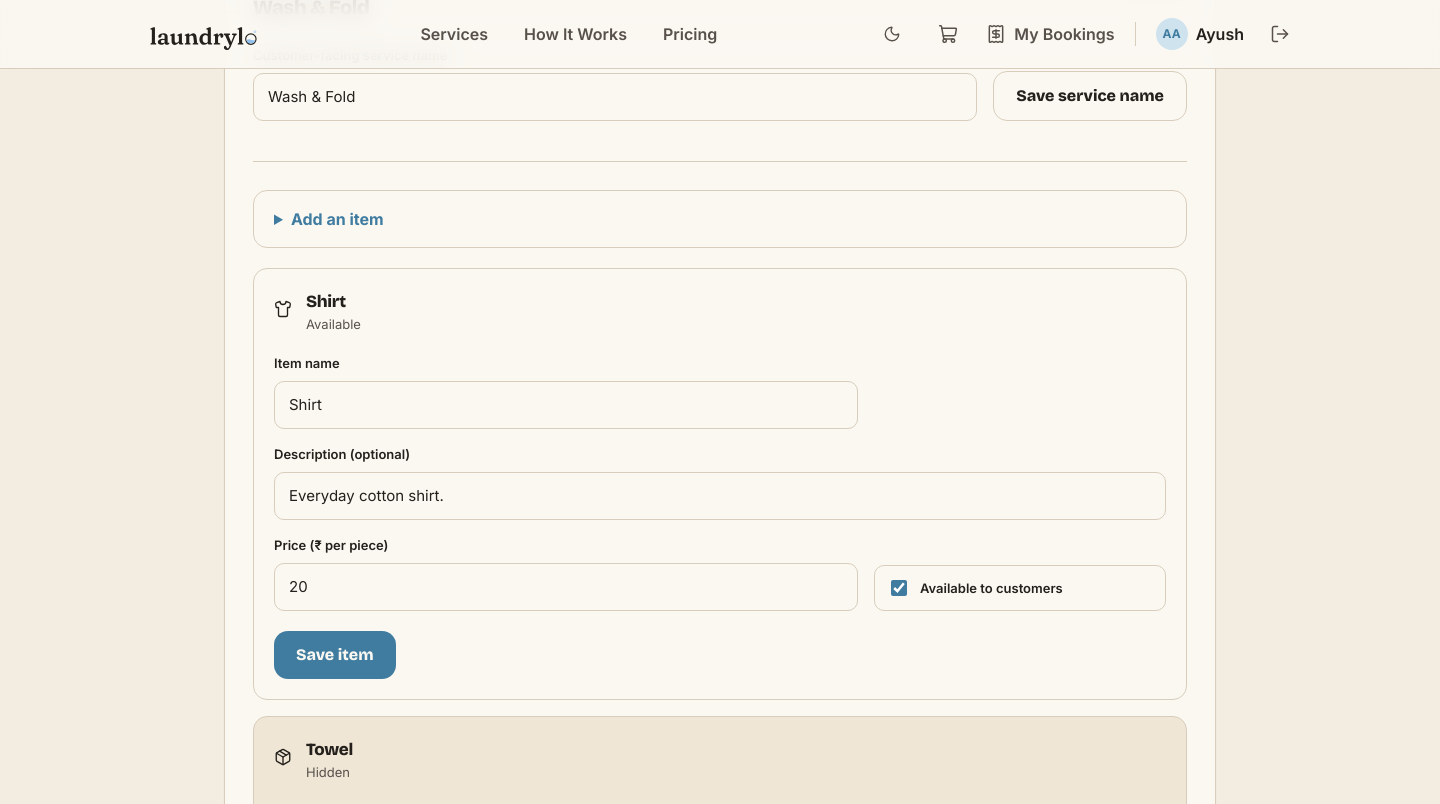
Test: laundry-partner catalogue management › updates item content, rupee pricing and customer availability together
The width and height of the screenshot is (1440, 804).
(page scrolled)
Clear the field labelled "Item name" at [566, 405], box [274,381,858,429]
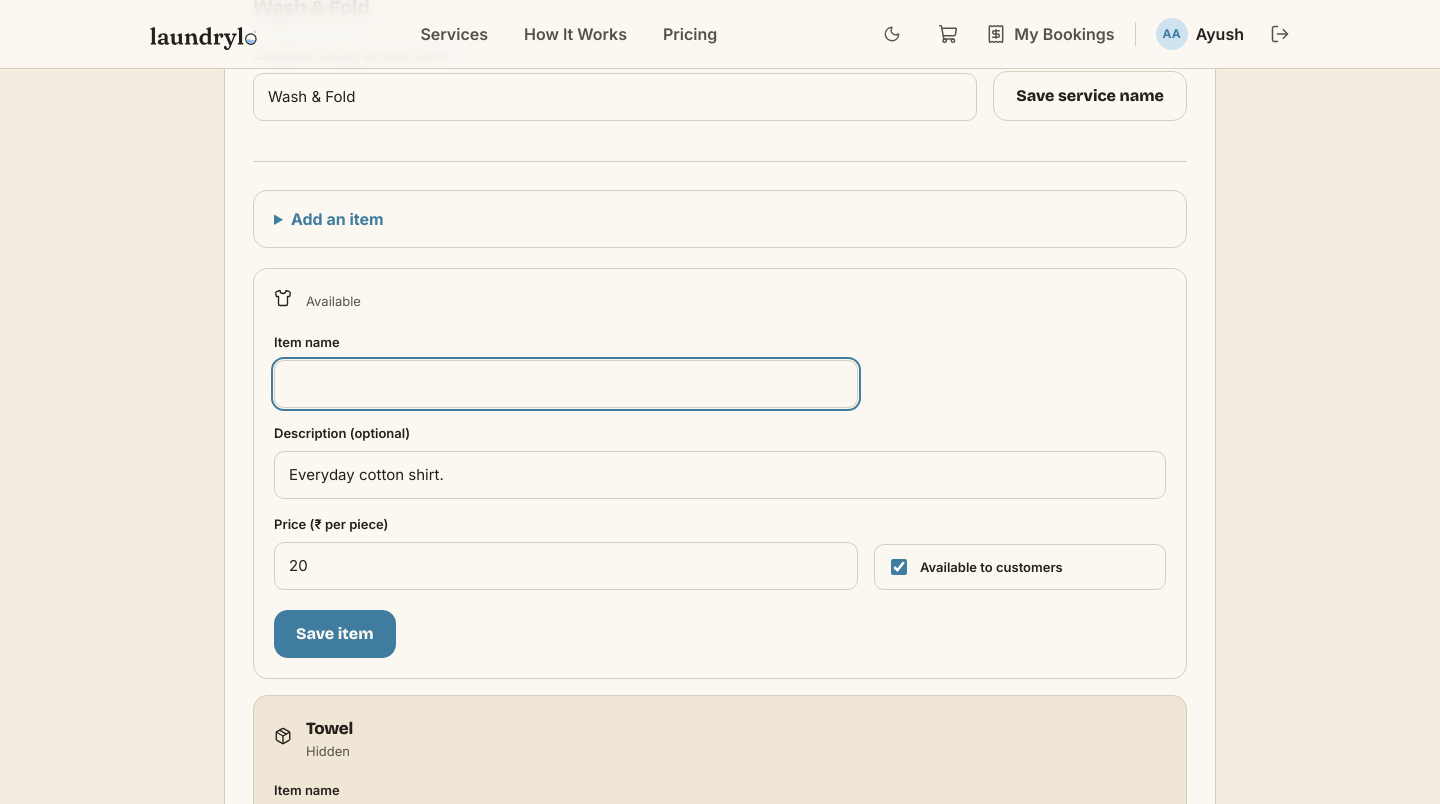
Type "Premium shirt" into the 1st field labelled "Item name".
click(566, 384); type("Premium shirt")  # box [274,360,858,408]
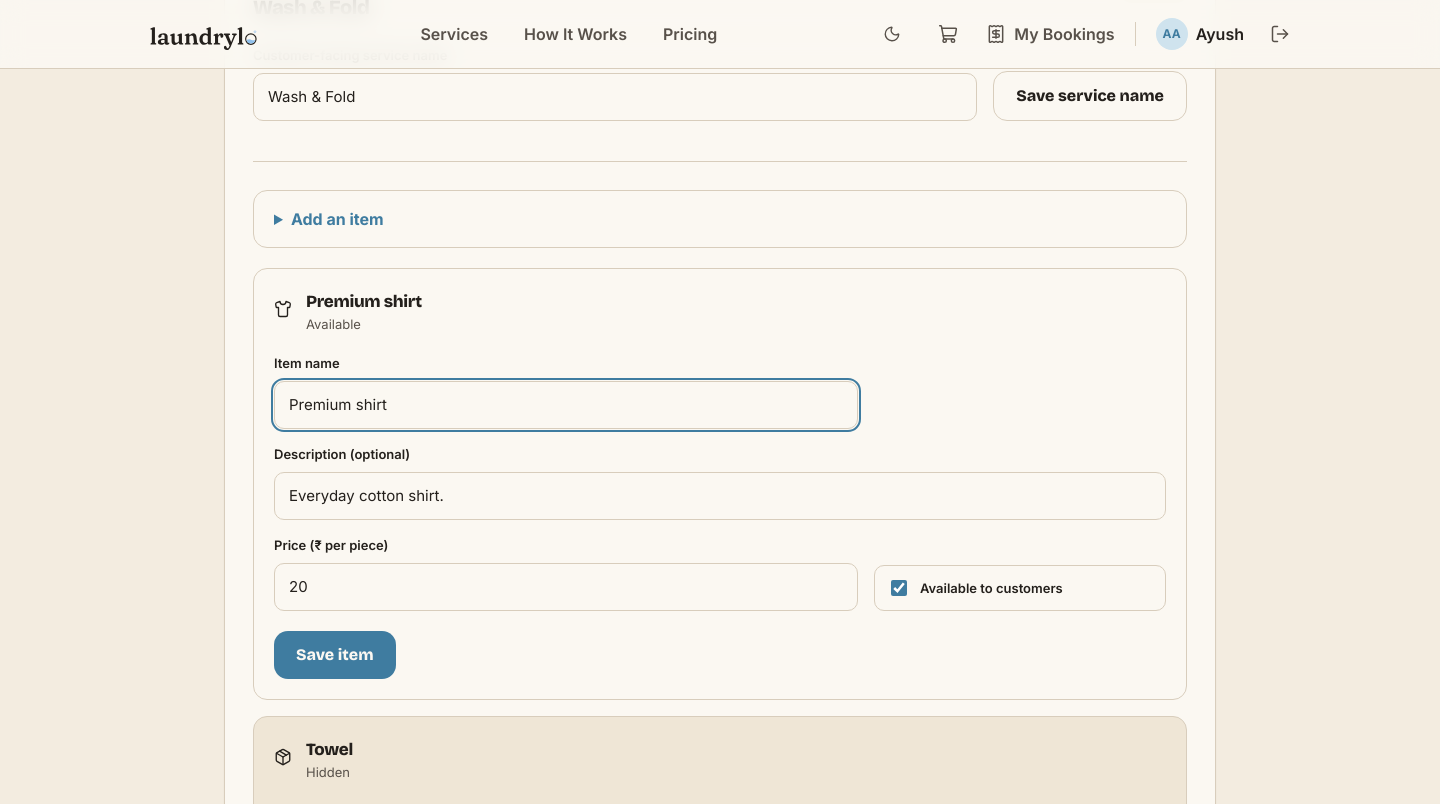
Replace the text in the field labelled "Description (optional)" with "Pressed and folded." at [720, 496], box [274,472,1166,520]
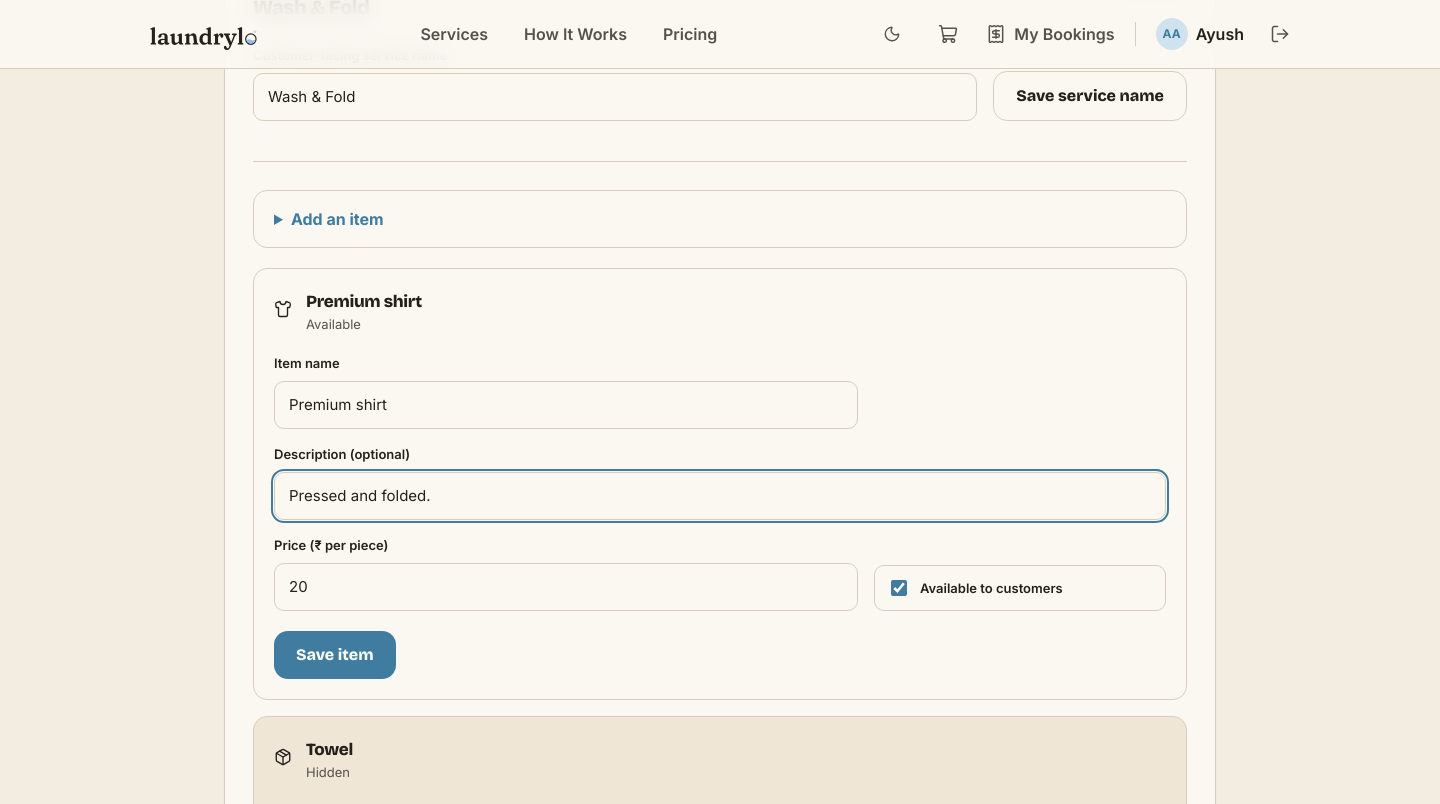
Replace the text in the number field labelled "Price (₹ per piece)" with "22.5" at [566, 587], box [274,563,858,611]
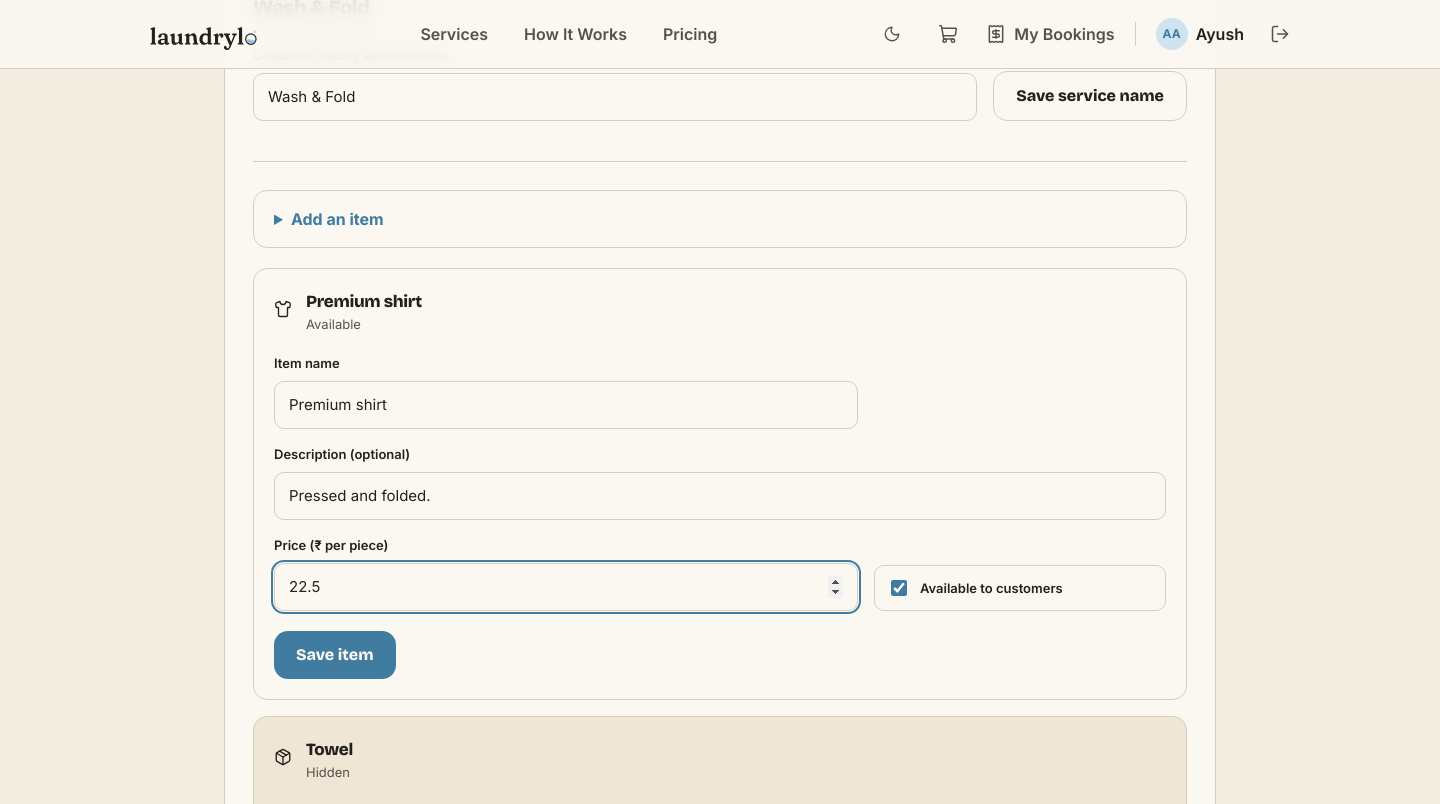
Click the checkbox named "Premium shirt Available to customers".
click(899, 588)  # box [891,580,907,596]
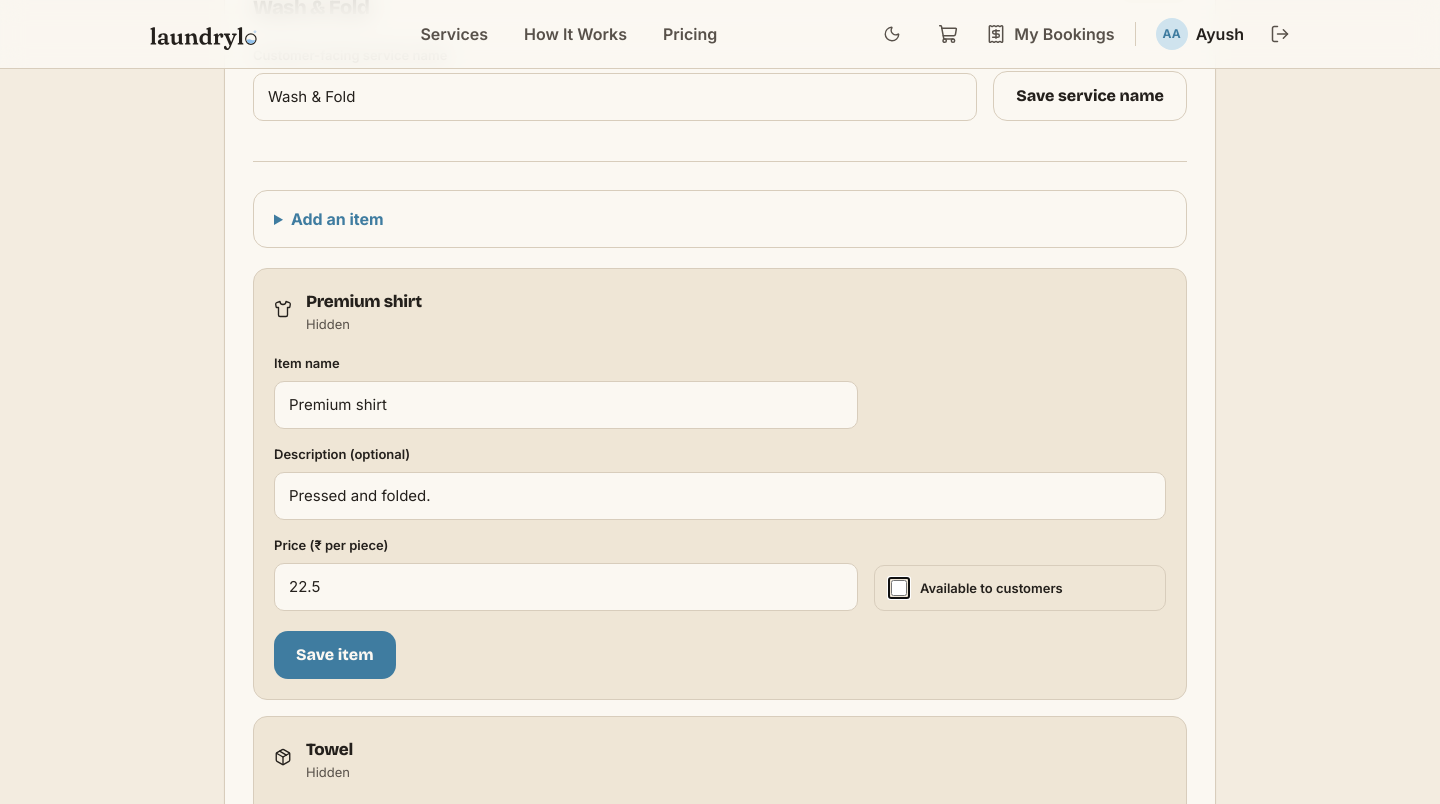
Click the button "Save item".
click(335, 655)  # box [274,631,396,679]
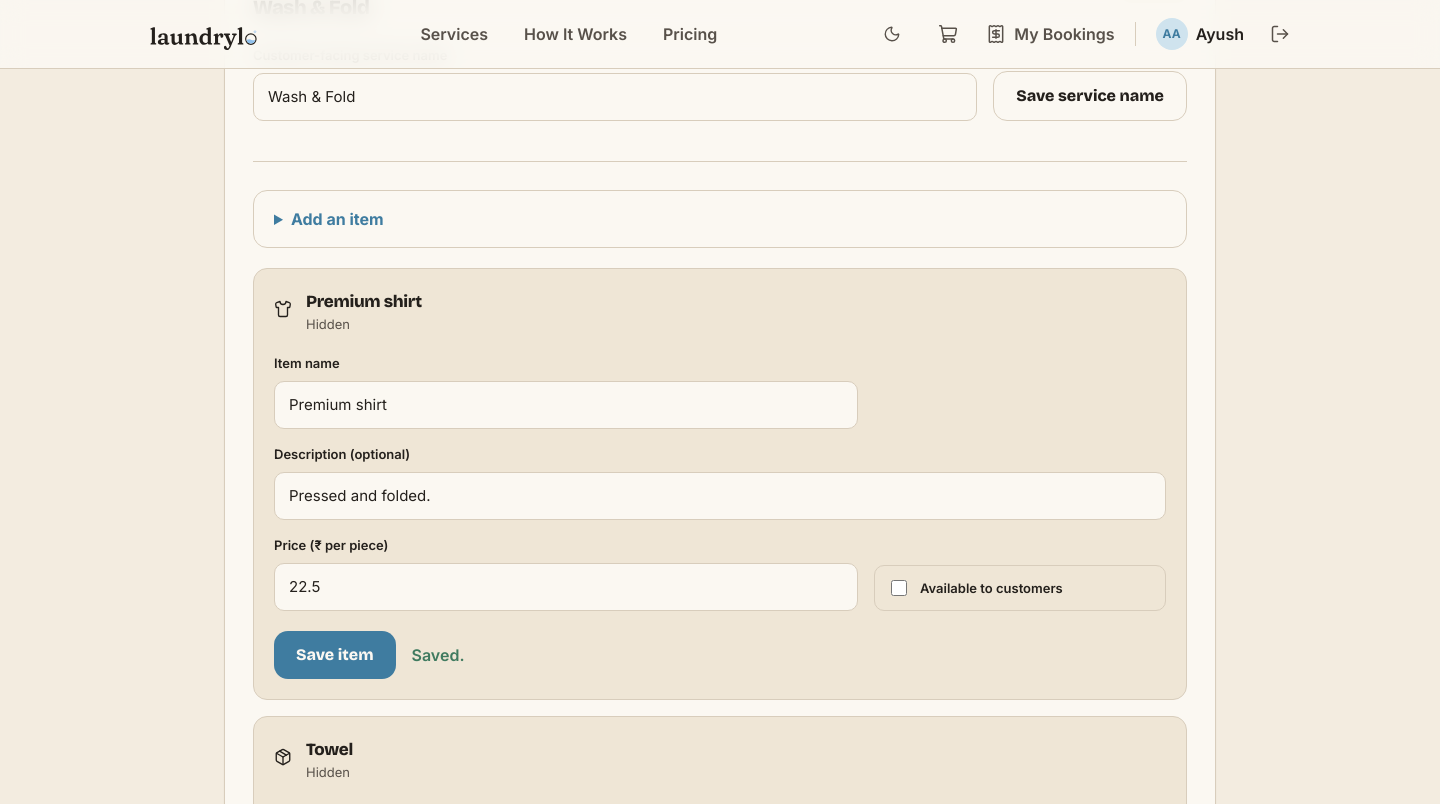
Result: the text "Hidden" below "Premium shirt" is shown at [306,316,350,332]
Result: the text "Saved." is shown at [412,643,464,667]
